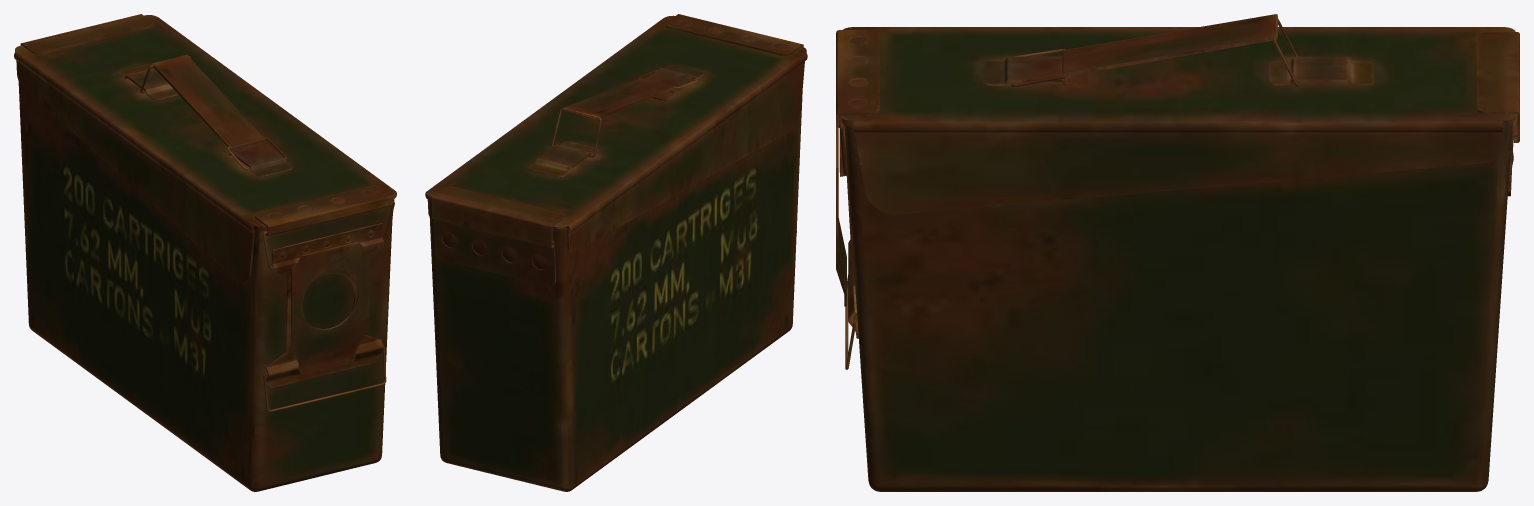
Rendered from ammo_box.glb.
The picture shows the model from 3 angles, left to right: view 1: azimuth 30°, elevation 25°; view 2: azimuth 150°, elevation 25°; view 3: azimuth 270°, elevation 25°; orthographic projection. The views are drawn at different scales.
Visible parts, largest first — view 1: ammo_box_handle_ring_b; view 2: ammo_box_handle_ring_b; view 3: ammo_box_handle_ring_b.
Boxes of the visible parts, x1,y1,x2,y2 form: ammo_box_handle_ring_b: (14,14,396,491); ammo_box_handle_ring_b: (425,14,807,491); ammo_box_handle_ring_b: (836,14,1519,491).
Size of the model in its own units: 0.0866 by 0.1775 by 0.2579.
1 material, 1 textured.
